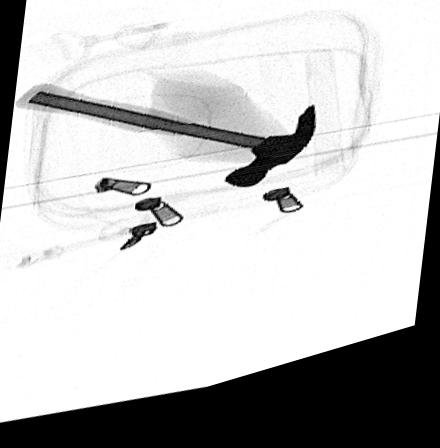Hammer: (15, 85, 315, 202)
